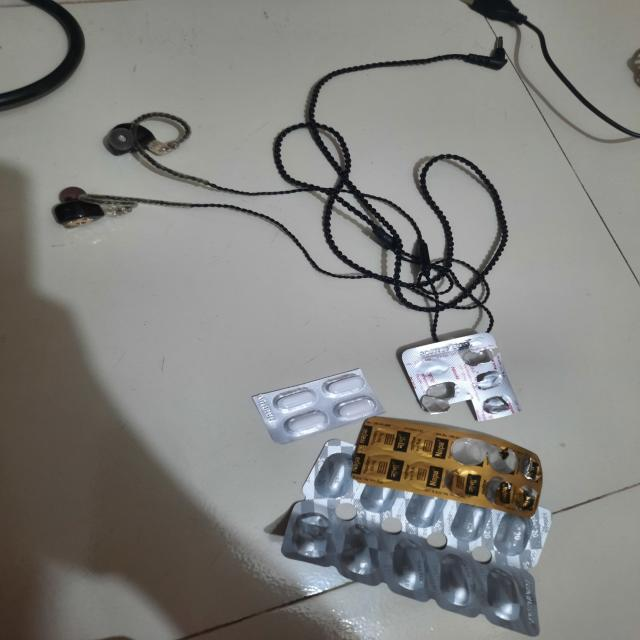Cable: (27, 0, 640, 297)
Medical Waste: (260, 304, 575, 640)
